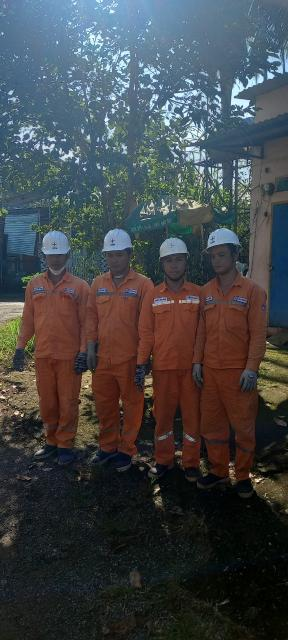gloves: (232, 364, 262, 402), (9, 346, 30, 379), (85, 338, 103, 374), (189, 359, 208, 389), (133, 358, 145, 393), (74, 351, 89, 375)
helmet: (37, 224, 78, 261), (200, 224, 240, 254), (96, 225, 134, 256), (154, 239, 192, 262)
shoes: (190, 462, 229, 493), (46, 440, 79, 468), (106, 446, 134, 476), (234, 473, 261, 504), (138, 456, 170, 479), (29, 437, 54, 463), (84, 444, 112, 467), (175, 459, 200, 482)
